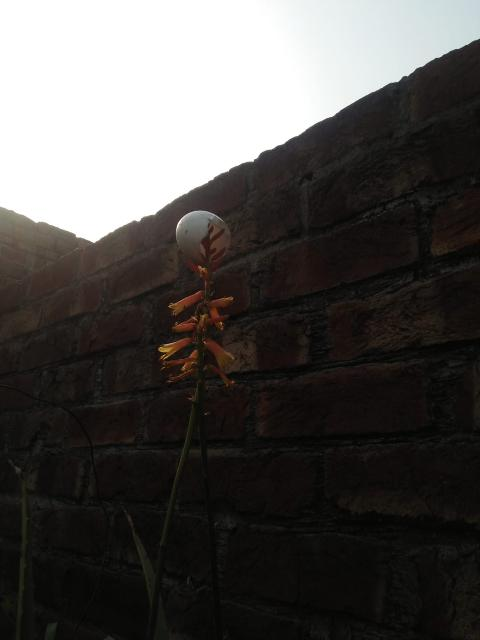Roto: (175, 209, 237, 266)
